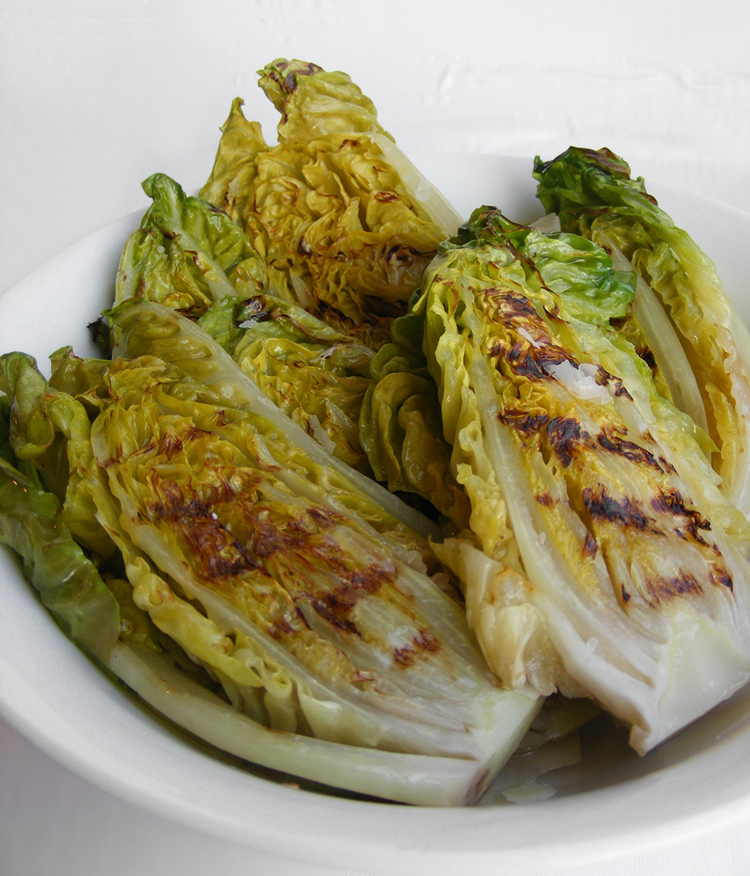chopped lettuce: (17, 86, 750, 785)
